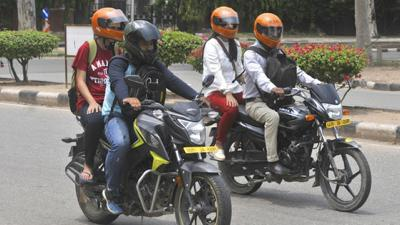With Helmet: (122, 16, 165, 63), (250, 9, 287, 53)
